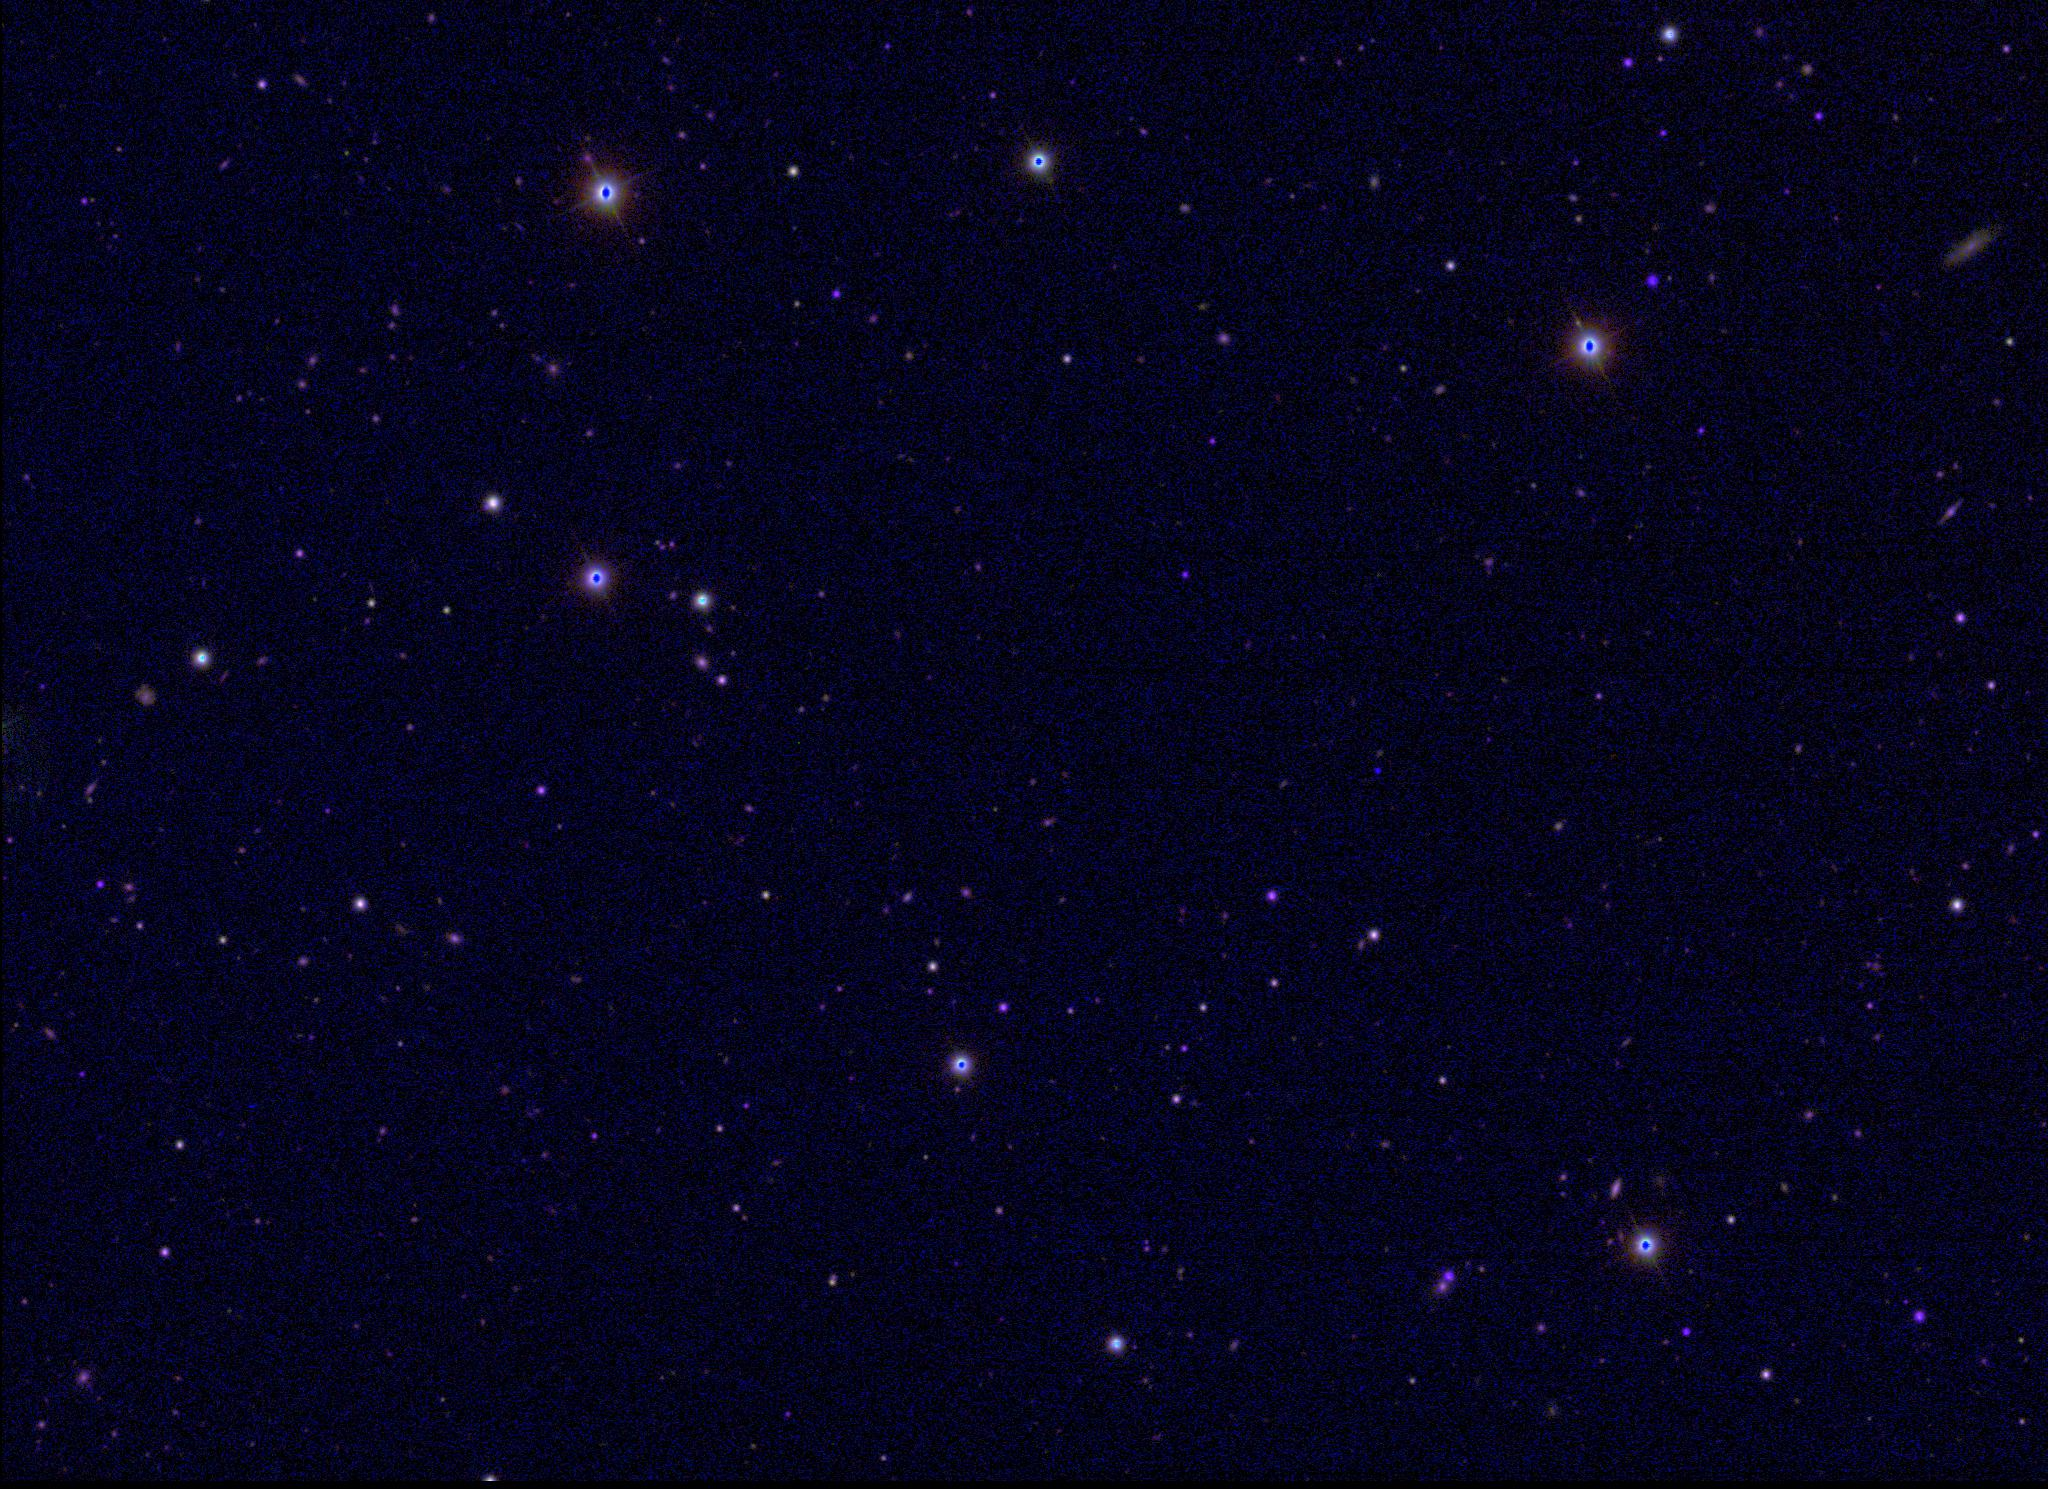L: (1371, 764, 1385, 776)
